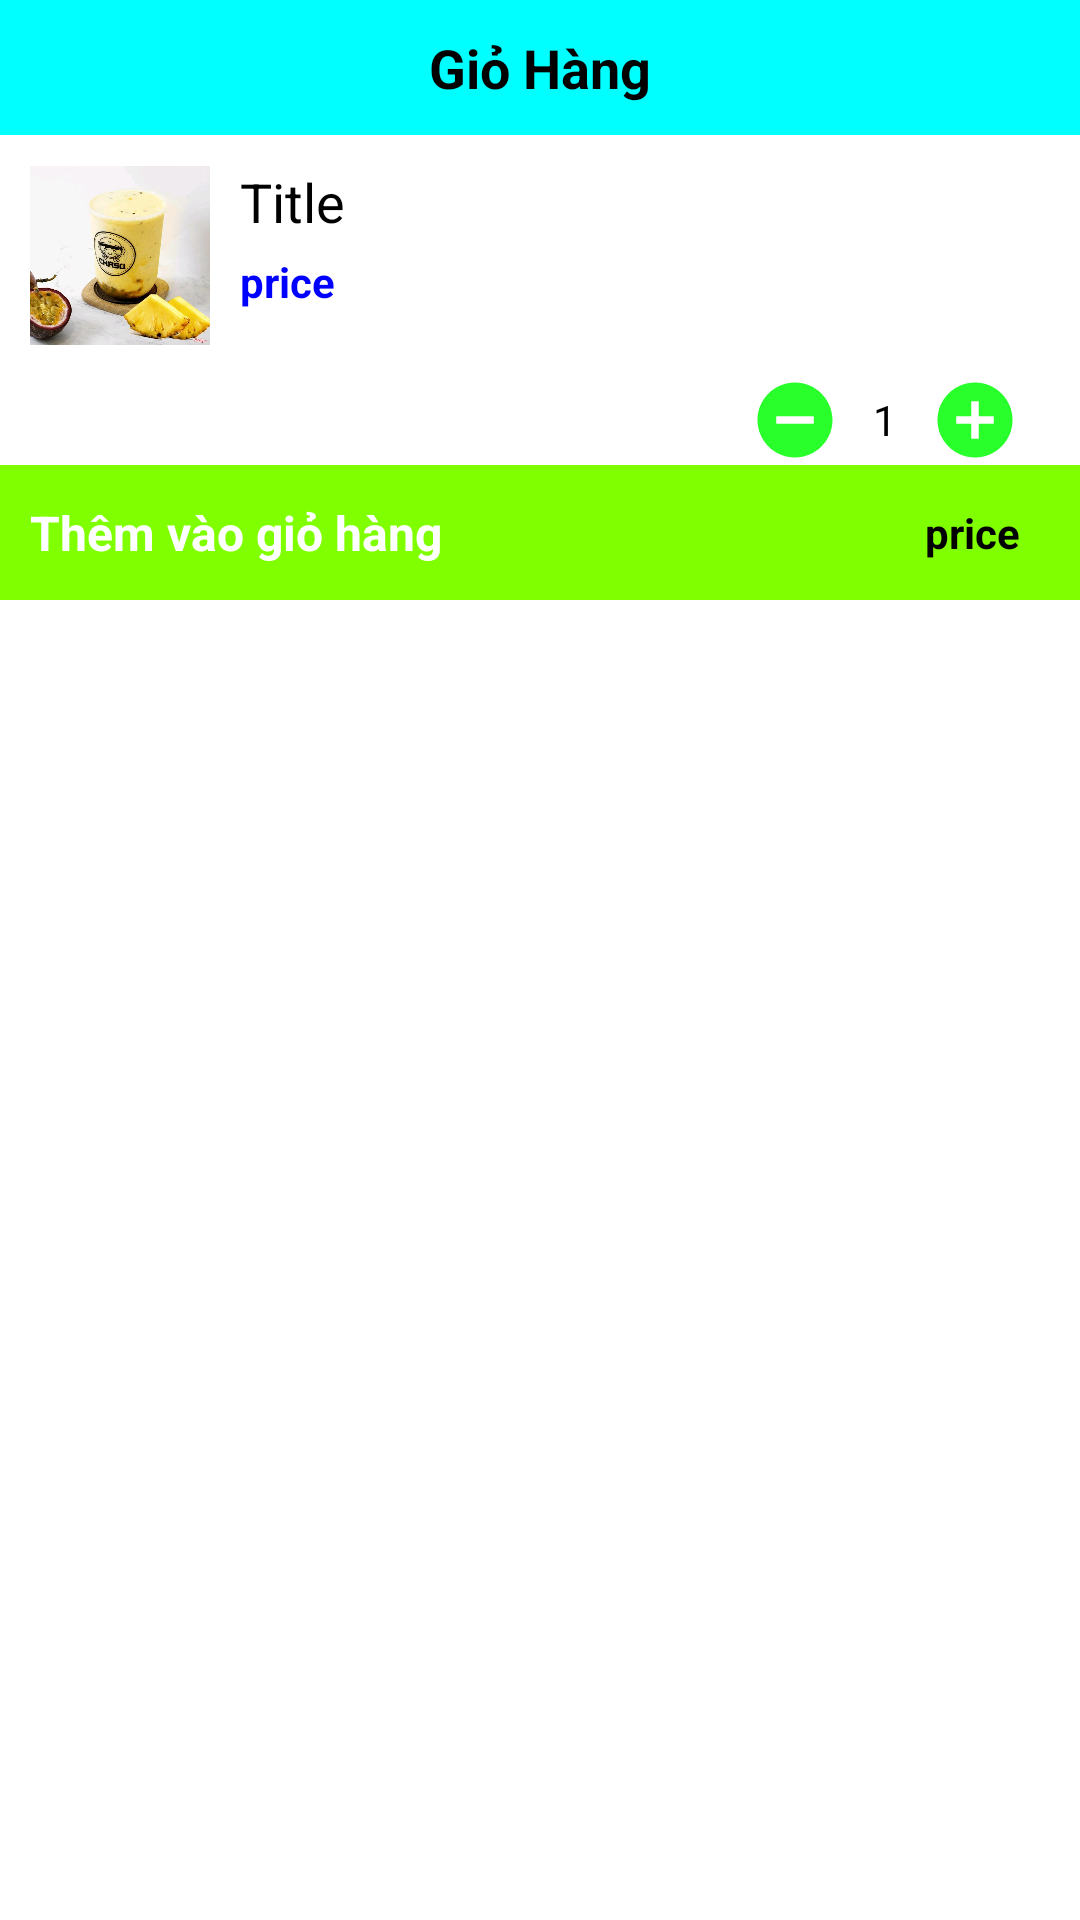

Named icons in this screenshot (1080 × 1920) and their bounding boxes, {"left": x1, "top": y1, "right": x2, "bottom": y2}:
add circle: {"left": 937, "top": 382, "right": 1013, "bottom": 458}
remove circle: {"left": 757, "top": 382, "right": 833, "bottom": 458}
